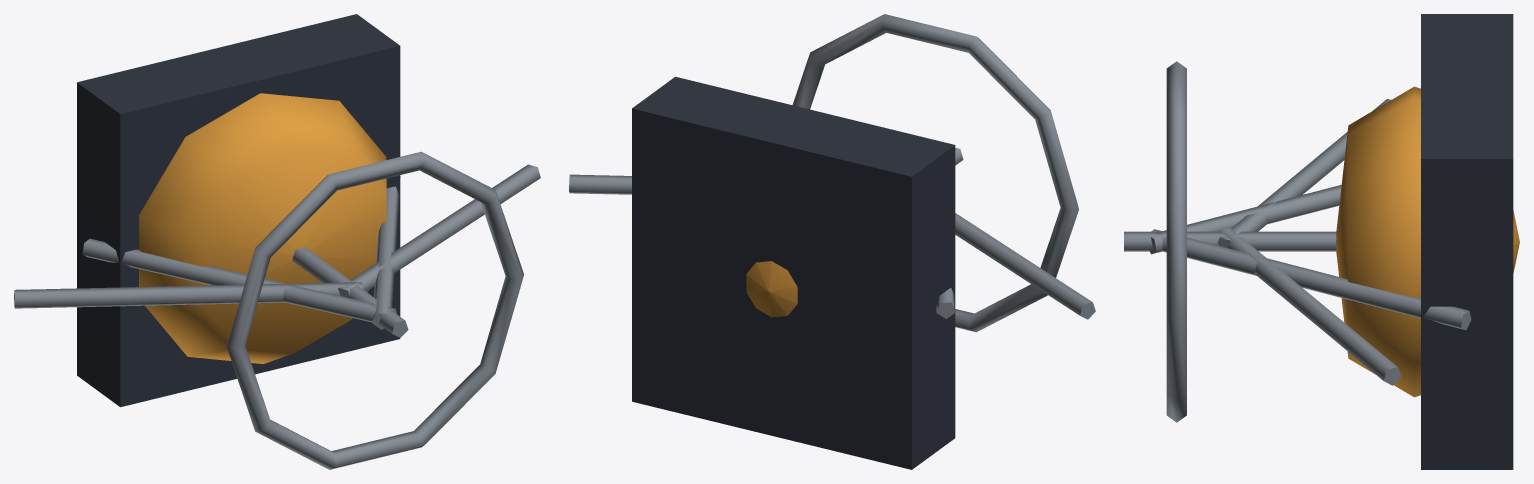
Rendered from cage_lamp.glb.
3 views of the same model, side by side, from view 1: azimuth 30°, elevation 25°; view 2: azimuth 150°, elevation 25°; view 3: azimuth 270°, elevation 25° (orthographic). The views are drawn at different scales.
Visible parts, largest first — view 1: cage_lamp; view 2: cage_lamp; view 3: cage_lamp.
Part boxes in pixels (box(x1,y1,x2,y2)): cage_lamp: box(14, 14, 540, 469); cage_lamp: box(569, 14, 1095, 469); cage_lamp: box(1124, 14, 1519, 469).
Size of the model in its own units: 0.4882 by 0.2625 by 0.3.
